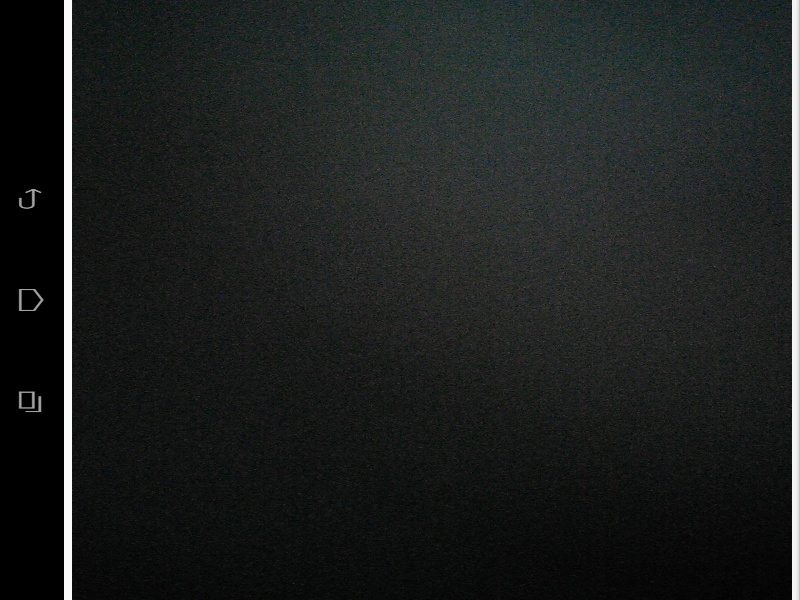Button: (233, 252, 566, 283), (233, 283, 566, 314), (233, 408, 566, 439), (540, 209, 580, 227), (526, 533, 566, 551)
Input: (273, 209, 526, 227), (286, 533, 513, 551)
